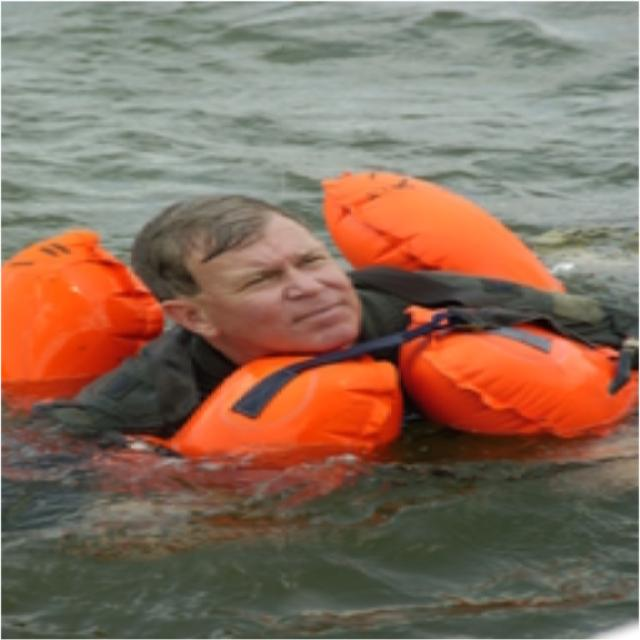Mannequin_wearing_orange-colored_life_preserver_unit_ LPU: (0, 170, 638, 458)
